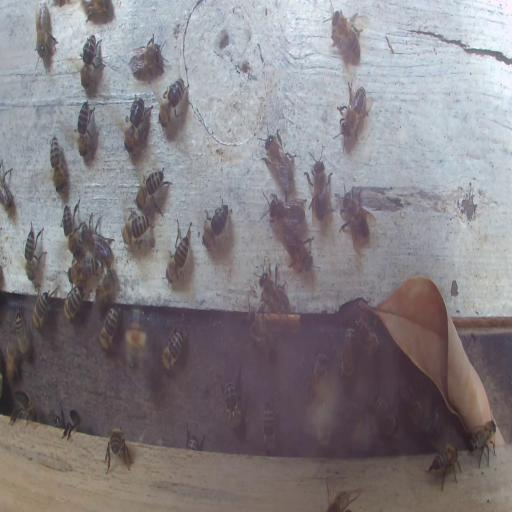nonpollenbee: (337, 84, 372, 142), (263, 126, 296, 186), (337, 182, 371, 240), (425, 440, 462, 492), (330, 8, 363, 66), (126, 34, 168, 76), (308, 155, 332, 224), (136, 165, 170, 213), (74, 98, 98, 166), (352, 308, 382, 362), (201, 201, 233, 251), (280, 225, 314, 272), (35, 1, 57, 72), (79, 34, 104, 95), (166, 231, 194, 285), (248, 310, 276, 364), (158, 79, 188, 128), (82, 214, 112, 262), (23, 221, 46, 283), (267, 194, 308, 228), (122, 96, 148, 149), (259, 267, 289, 312), (470, 419, 496, 467), (104, 426, 131, 472), (337, 322, 356, 384), (372, 391, 398, 434), (121, 209, 149, 248), (160, 326, 184, 371), (63, 205, 82, 259), (310, 351, 328, 408), (396, 384, 422, 422), (223, 375, 241, 429), (10, 390, 36, 425), (31, 290, 53, 331), (98, 307, 118, 352), (63, 282, 88, 318), (67, 257, 99, 285), (0, 160, 16, 212), (50, 135, 64, 193), (94, 270, 116, 306), (262, 398, 275, 453), (83, 0, 114, 22), (62, 406, 82, 440), (15, 308, 29, 356), (6, 337, 20, 383), (326, 486, 349, 512)
pollenbee: (124, 306, 148, 372)
